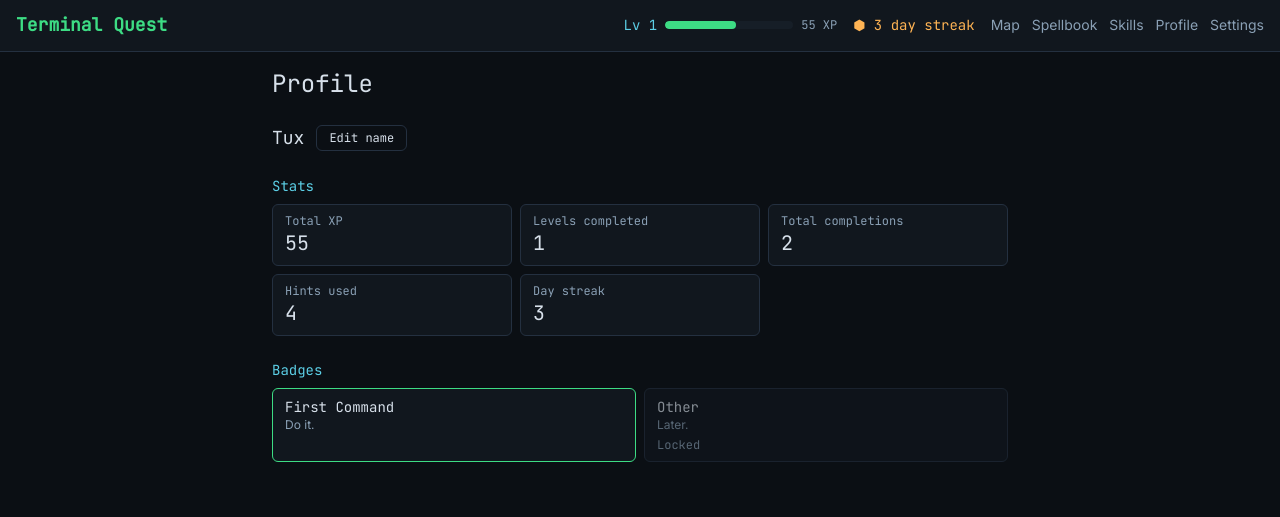
Test case: ProfilePage › renames via the editor
This screenshot has width=1280, height=517.
Expected: the text "Tux" is shown, [272,124,304,152]
Click the button "Edit name". click: [362, 138]
box: [316,125,407,151]
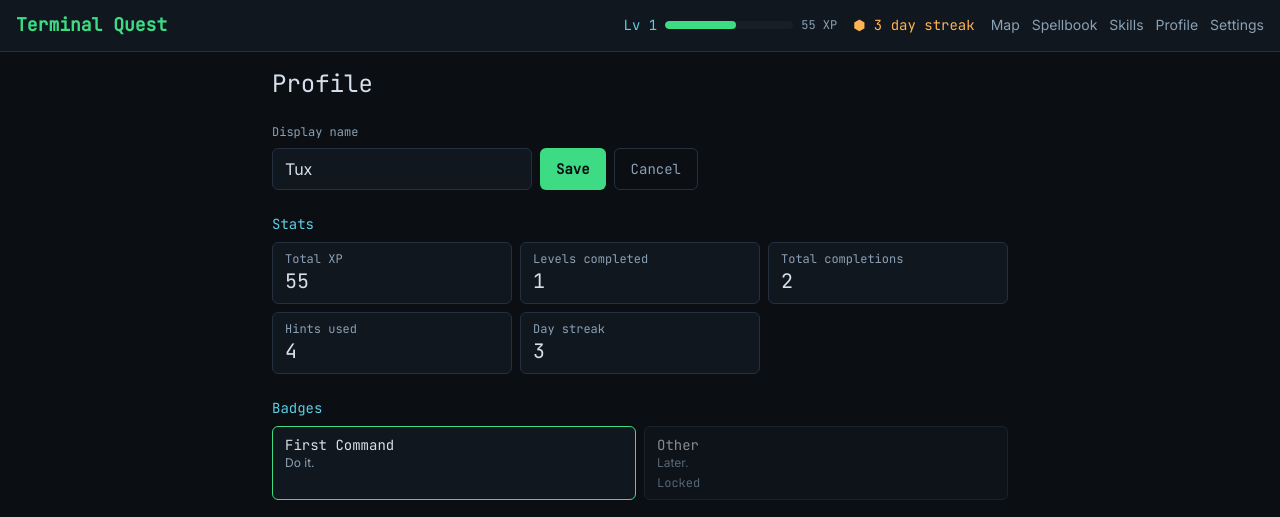
Replace the text in the field labelled "Display name" with "Root". click: [402, 169]
box: [272,148,532,190]
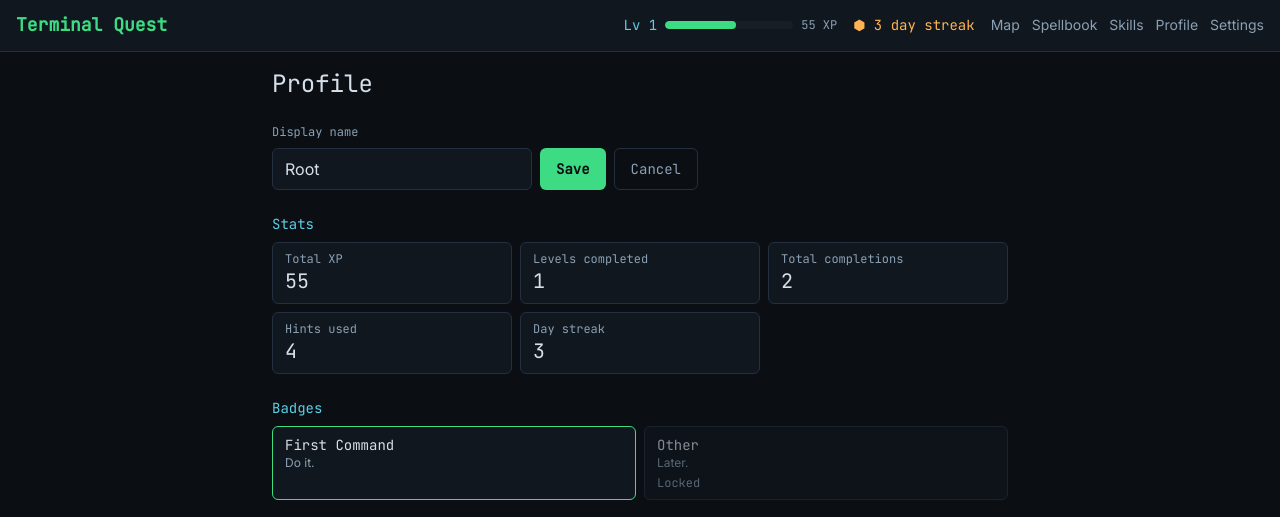
Click the button "Save". click: [573, 169]
box: [540,148,606,190]
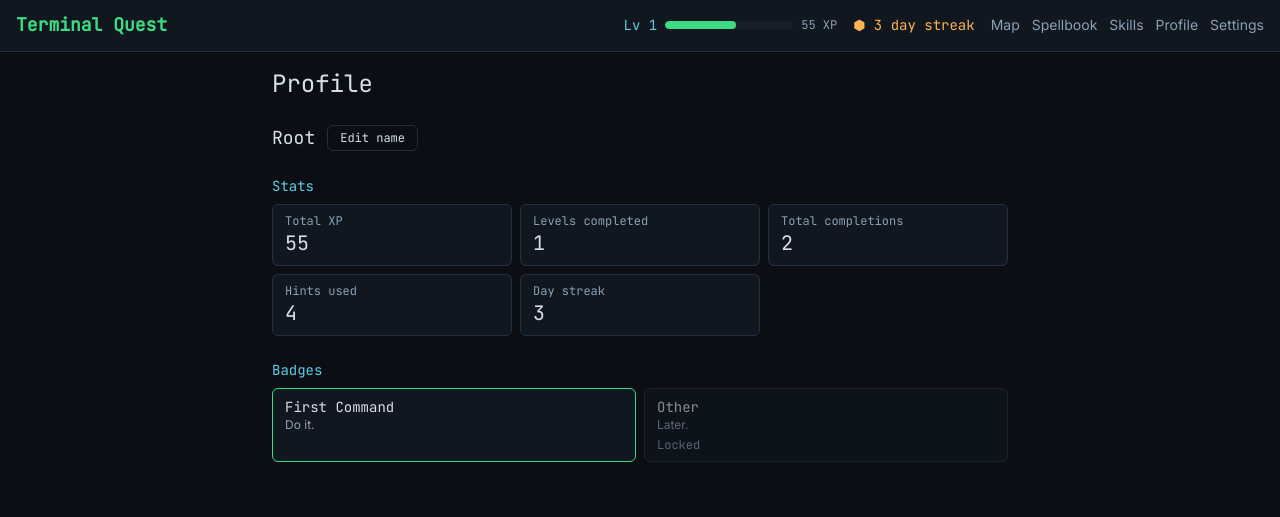
Expected: the text "Root" is shown, [272,124,315,152]
